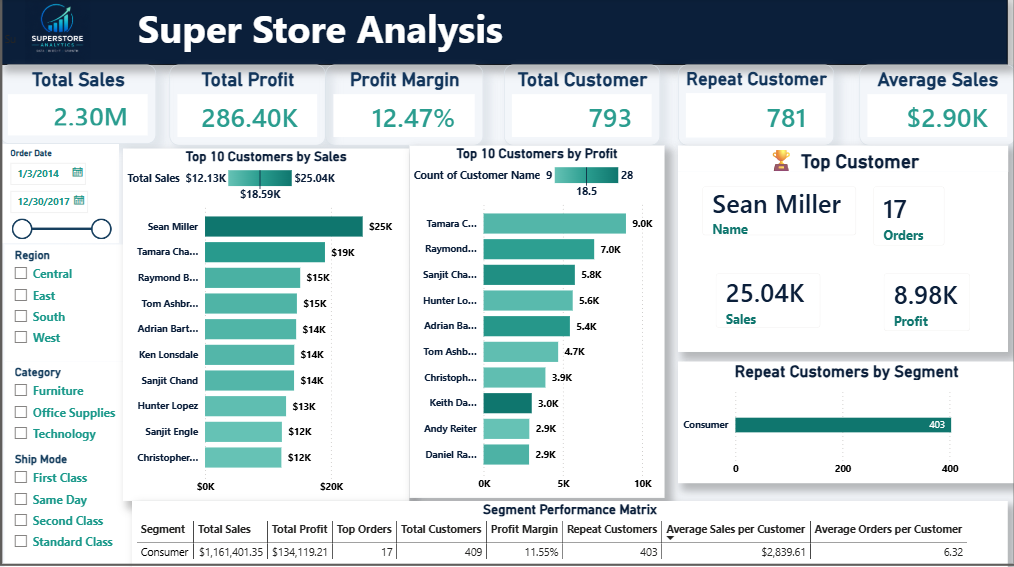

The dashboard page shown, as its layout file describes it:
{"tool":"powerbi","page":{"name":"Customer Insights","canvas":[1280,720],"ordinal":2},"visuals":[{"type":"textbox","box":[0,0,1279.4,85],"z":0},{"type":"textbox","box":[0,0,1269,85],"z":1000},{"type":"image","box":[24.2,0,97,84.8],"z":2000},{"type":"cardVisual","title":"Total Sales","fields":{"Data":["Sum(Sample - Superstore.Sales)"]},"box":[0,85,196.5,100.2],"z":3000},{"type":"cardVisual","title":"Total Profit","fields":{"Data":["Sum(Sample - Superstore.Profit)"]},"box":[213.5,85,196.5,102],"z":4000},{"type":"cardVisual","title":"Profit Margin","fields":{"Data":["Sample - Superstore.Profit Margin"]},"box":[410.1,85,198.4,102],"z":5000},{"type":"cardVisual","title":"Total  Customer ","fields":{"Data":["Sample - Superstore.Total Customers"]},"box":[635,85,196.5,102],"z":6000},{"type":"slicer","fields":{"Values":["Sample - Superstore.Order Date"]},"box":[0,185.2,149.3,124.7],"z":7000},{"type":"slicer","fields":{"Values":["Sample - Superstore.Region"]},"box":[5.7,311.8,149.3,147.4],"z":8000},{"type":"slicer","fields":{"Values":["Sample - Superstore.Category"]},"box":[5.7,459.2,149.3,126.6],"z":9000},{"type":"slicer","fields":{"Values":["Sample - Superstore.Ship Mode"]},"box":[5.7,568.8,160.6,151.2],"z":10000},{"type":"cardVisual","title":"Average Sales","fields":{"Data":["Sample - Superstore.Average Sales per Customer"]},"box":[1082.8,85,196.5,102],"z":11000},{"type":"cardVisual","title":"Repeat Customer","fields":{"Data":["Sample - Superstore.Repeat Customers"]},"box":[854.2,85,196.5,102],"z":12000},{"type":"clusteredBarChart","title":" Top 10 Customers by Sales","fields":{"Y":["Sample - Superstore.Total Sales"],"Category":["Sample - Superstore.Customer Name"]},"box":[155,190.9,360.9,444.1],"z":13000},{"type":"clusteredBarChart","title":"Top 10 Customers by Profit","fields":{"Category":["Sample - Superstore.Customer Name"],"Y":["Sum(Sample - Superstore.Profit)"]},"box":[515.9,187.1,321.3,444.1],"z":14000},{"type":"shape","title":"🏆 Top Customer","box":[854.2,187.1,415.8,260],"z":15000},{"type":"cardVisual","fields":{"Data":["Sample - Superstore.Top Orders"]},"box":[1082.8,221.1,124.7,109.6],"z":16000},{"type":"cardVisual","fields":{"Data":["Sample - Superstore.Top Customer"]},"box":[867.4,221.1,228.7,96.4],"z":17000},{"type":"cardVisual","fields":{"Data":["Sample - Superstore.Top Customer Sales"]},"box":[884.4,330.7,166.3,103.9],"z":18000},{"type":"cardVisual","fields":{"Data":["Sample - Superstore.Top Customer Profit"]},"box":[1096.1,330.7,143.6,107.7],"z":19000},{"type":"tableEx","title":"Segment Performance Matrix","fields":{"Values":["Sample - Superstore.Segment","Sample - Superstore.Total Sales","Sample - Superstore.Total Profit","Sample - Superstore.Top Orders","Sample - Superstore.Total Customers","Sample - Superstore.Profit Margin","Sample - Superstore.Repeat Customers","Sample - Superstore.Average Sales per Customer","Sample - Superstore.Average Orders per Customer"]},"box":[166.3,635,1103.6,85],"z":20000},{"type":"clusteredBarChart","fields":{"Category":["Sample - Superstore.Segment"],"Y":["Sample - Superstore.Repeat Customers"]},"box":[854.2,459.2,425.2,153.1],"z":20001},{"type":"actionButton","box":[0,0,1280,717],"z":20002}]}

Visuals, with their boxes in screenshot pixels (x1, y1, x2, y2), scaled from the page's 1280x720 canvas onto the 1014x567 screenshot:
textbox: 0 0 1013 67
textbox: 0 0 1005 67
image: 19 0 96 67
"Total Sales" cardVisual: 0 67 156 146
"Total Profit" cardVisual: 169 67 325 147
"Profit Margin" cardVisual: 325 67 482 147
"Total  Customer " cardVisual: 503 67 659 147
slicer - Sample - Superstore.Order Date: 0 146 118 244
slicer - Sample - Superstore.Region: 5 246 123 362
slicer - Sample - Superstore.Category: 5 362 123 461
slicer - Sample - Superstore.Ship Mode: 5 448 132 566
"Average Sales" cardVisual: 858 67 1013 147
"Repeat Customer" cardVisual: 677 67 832 147
" Top 10 Customers by Sales" clusteredBarChart: 123 150 409 500
"Top 10 Customers by Profit" clusteredBarChart: 409 147 663 497
"🏆 Top Customer" shape: 677 147 1006 352
cardVisual - Sample - Superstore.Top Orders: 858 174 957 260
cardVisual - Sample - Superstore.Top Customer: 687 174 868 250
cardVisual - Sample - Superstore.Top Customer Sales: 701 260 832 342
cardVisual - Sample - Superstore.Top Customer Profit: 868 260 982 345
"Segment Performance Matrix" tableEx: 132 500 1006 566
clusteredBarChart - Sample - Superstore.Segment x Sample - Superstore.Repeat Customers: 677 362 1013 482
actionButton: 0 0 1013 565
